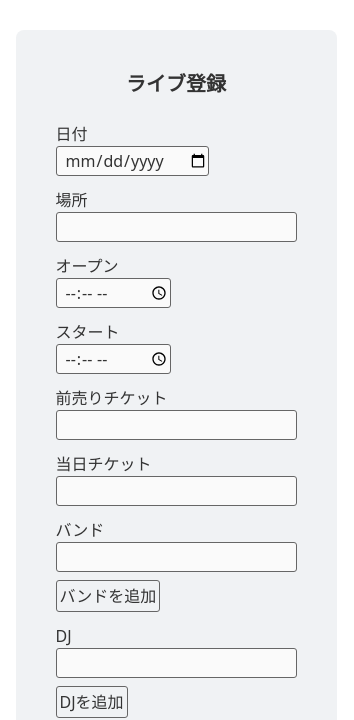
CreateGig Component › バンド、DJの追加ボタンを押すと行が増える
Check: the number of fields labelled "バンド" is 1, box left=56, top=542, right=296, bottom=572
Check: the number of fields labelled "DJ" is 1, box left=56, top=648, right=296, bottom=678
Click the button "バンドを追加" at point(108, 596), box left=56, top=580, right=160, bottom=612
(page scrolled)
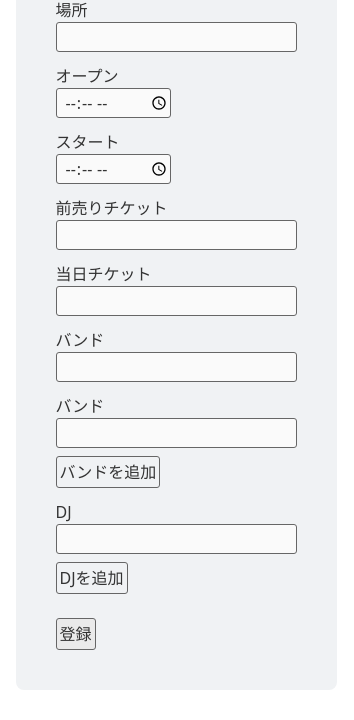
Click the button "DJを追加" at point(92, 578), box left=56, top=562, right=128, bottom=594
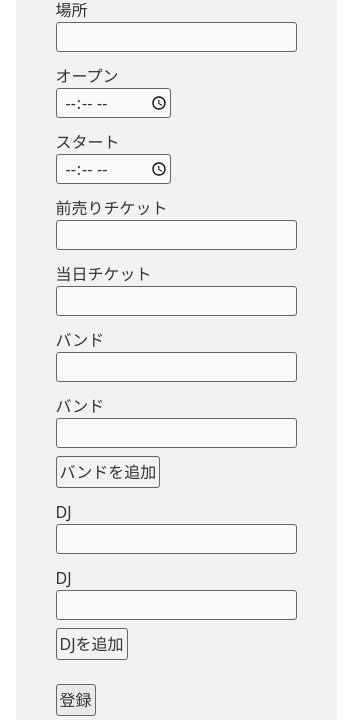
Check: the number of fields labelled "バンド" is 2, box left=56, top=352, right=296, bottom=382; left=56, top=418, right=296, bottom=448
Check: the number of fields labelled "DJ" is 2, box left=56, top=524, right=296, bottom=554; left=56, top=590, right=296, bottom=620
